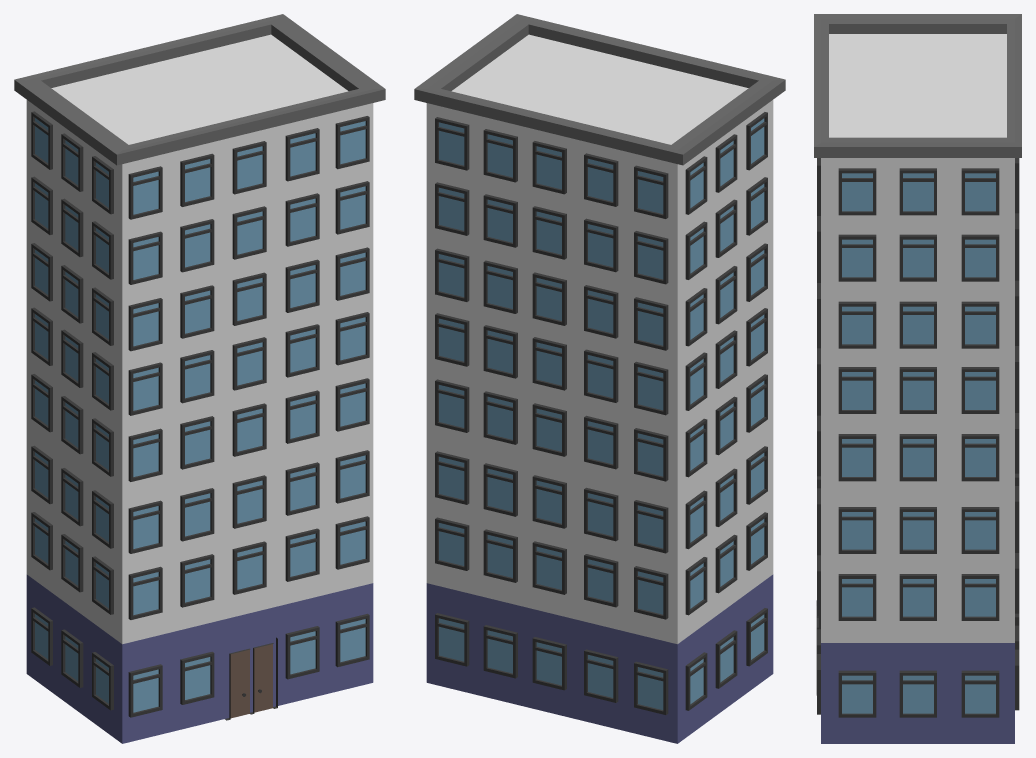
Rendered from building3.fbx.
3 views of the same model, side by side, from view 1: azimuth 30°, elevation 25°; view 2: azimuth 150°, elevation 25°; view 3: azimuth 270°, elevation 25° (orthographic).
Visible parts, largest first — view 1: building3; view 2: building3; view 3: building3.
Part boxes in pixels (box(x1,y1,x2,y2)): building3: box(14, 14, 385, 743); building3: box(414, 14, 785, 743); building3: box(814, 14, 1021, 743).
Size of the model in its own units: 537 by 1134 by 355.
